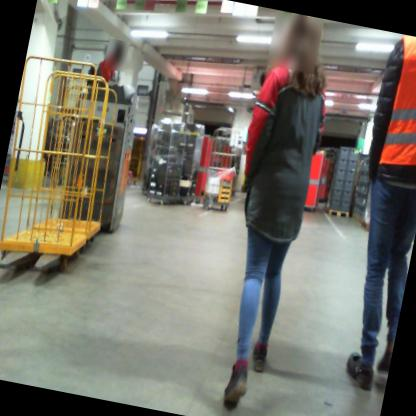pallet: (321, 204, 352, 224), (358, 218, 375, 233), (355, 214, 363, 226), (347, 212, 357, 220)
pallet_truck: (0, 62, 152, 303)
